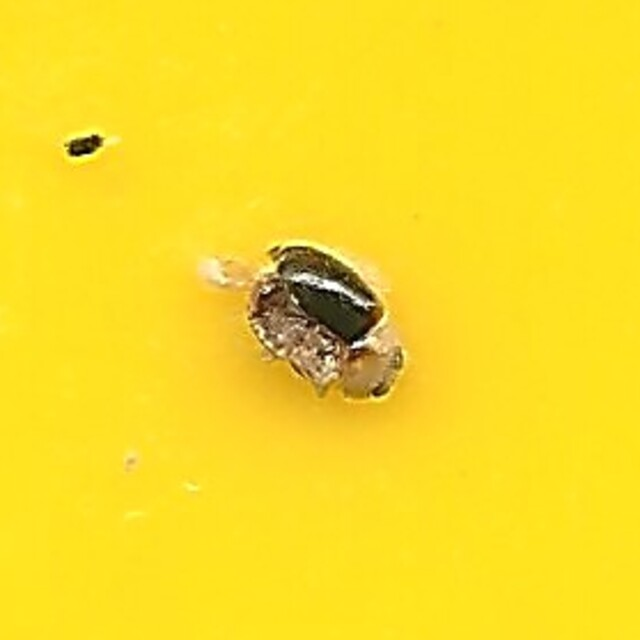Coleoptera: (229, 237, 411, 403)
